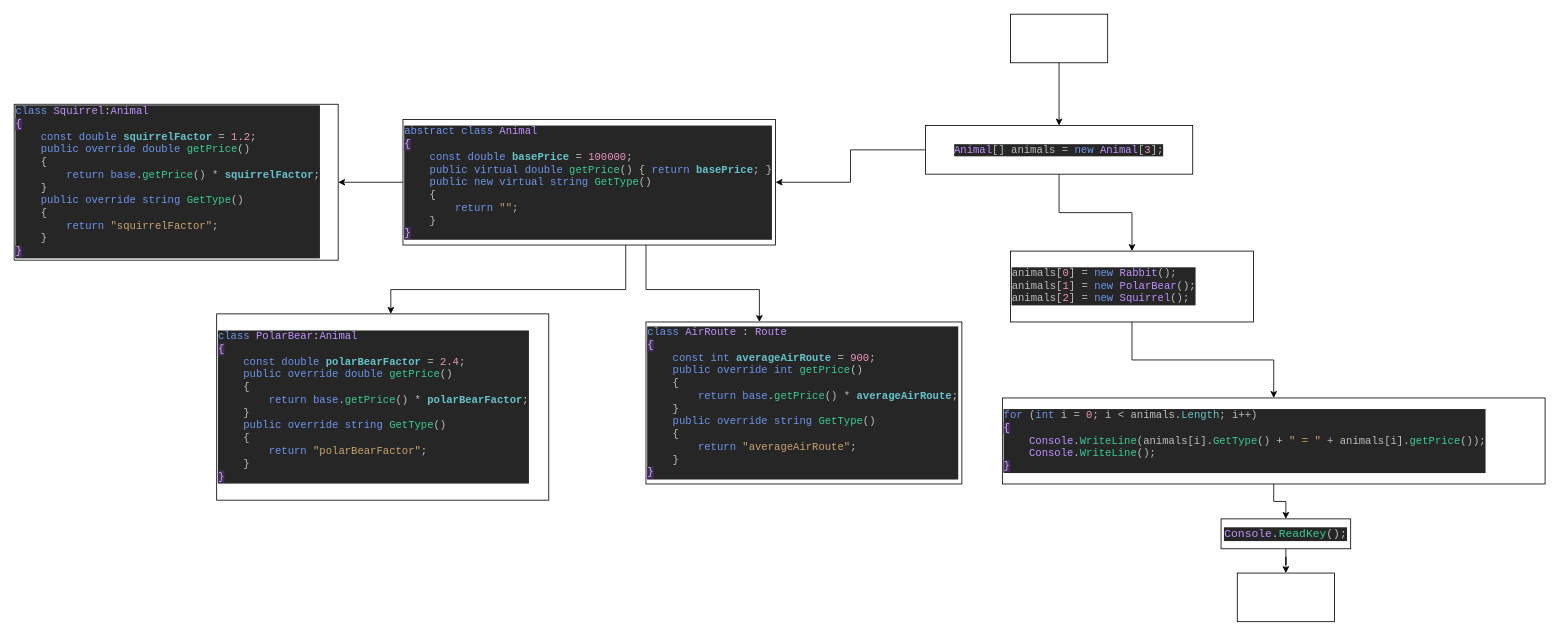
Image size: 1559x636. Some labels were removed from this diagram. The shapes that lost their labels are listed below. From the top down, each one's centre as x and y in pixels, then its label:
pixel 1059 38: Start
pixel 1285 597: End
